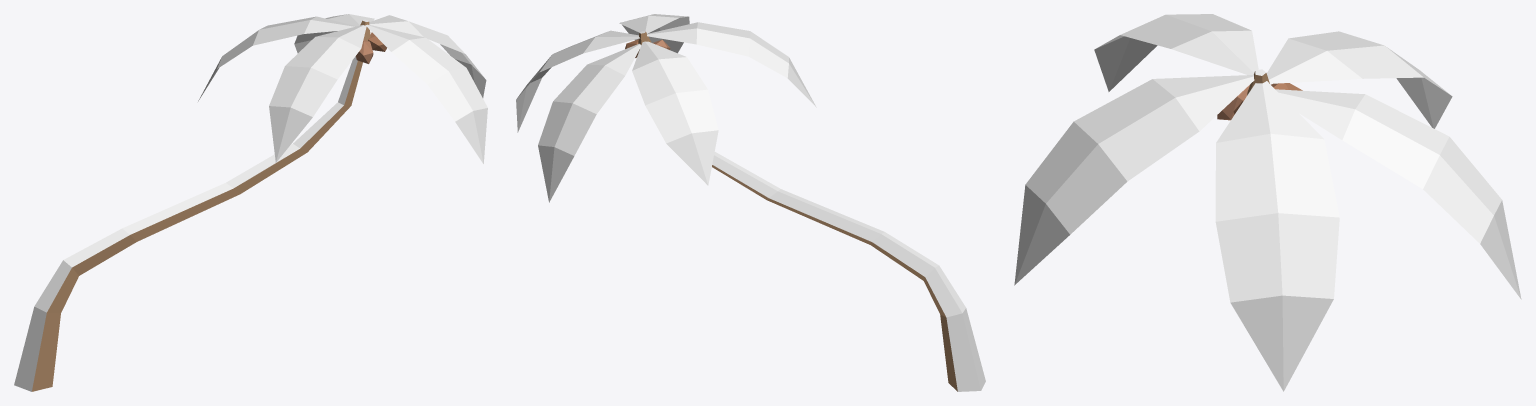
Rendered from Palm_Tree_Coconut_OneSided_s_Snow_05_LOD.fbx.
The picture shows the model from 3 angles, left to right: view 1: azimuth 30°, elevation 25°; view 2: azimuth 150°, elevation 25°; view 3: azimuth 270°, elevation 25°; orthographic projection. The views are drawn at different scales.
Visible parts, largest first — view 1: Palm_Tree_Coconut_OneSided_s_Snow_05_LOD0; view 2: Palm_Tree_Coconut_OneSided_s_Snow_05_LOD0; view 3: Palm_Tree_Coconut_OneSided_s_Snow_05_LOD0.
Part boxes in pixels (<box>): Palm_Tree_Coconut_OneSided_s_Snow_05_LOD0: <box>14,14,487,391</box>; Palm_Tree_Coconut_OneSided_s_Snow_05_LOD0: <box>516,14,985,391</box>; Palm_Tree_Coconut_OneSided_s_Snow_05_LOD0: <box>1014,14,1521,391</box>.
Size of what is drawn, in the model's own units: 447 by 258 by 244.
